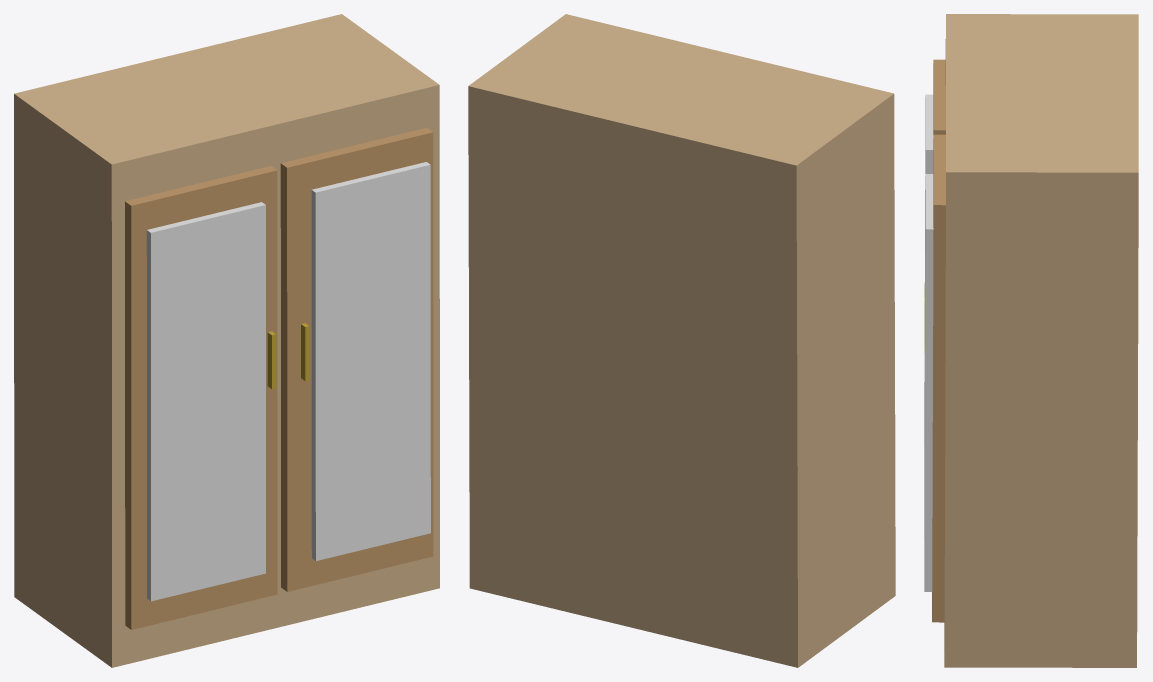
The model's file is Cupboard_3.fbx.
The picture shows the model from 3 angles, left to right: view 1: azimuth 30°, elevation 25°; view 2: azimuth 150°, elevation 25°; view 3: azimuth 270°, elevation 25°; orthographic projection.
Visible parts, largest first — view 1: Cube.005; view 2: Cube.005; view 3: Cube.005.
Boxes of the visible parts, x1,y1,x2,y2 form: Cube.005: (14,14,439,667); Cube.005: (468,14,895,667); Cube.005: (924,14,1138,667).
Bounding box in the file's own units: 3.77 × 5.52 × 2.16.
